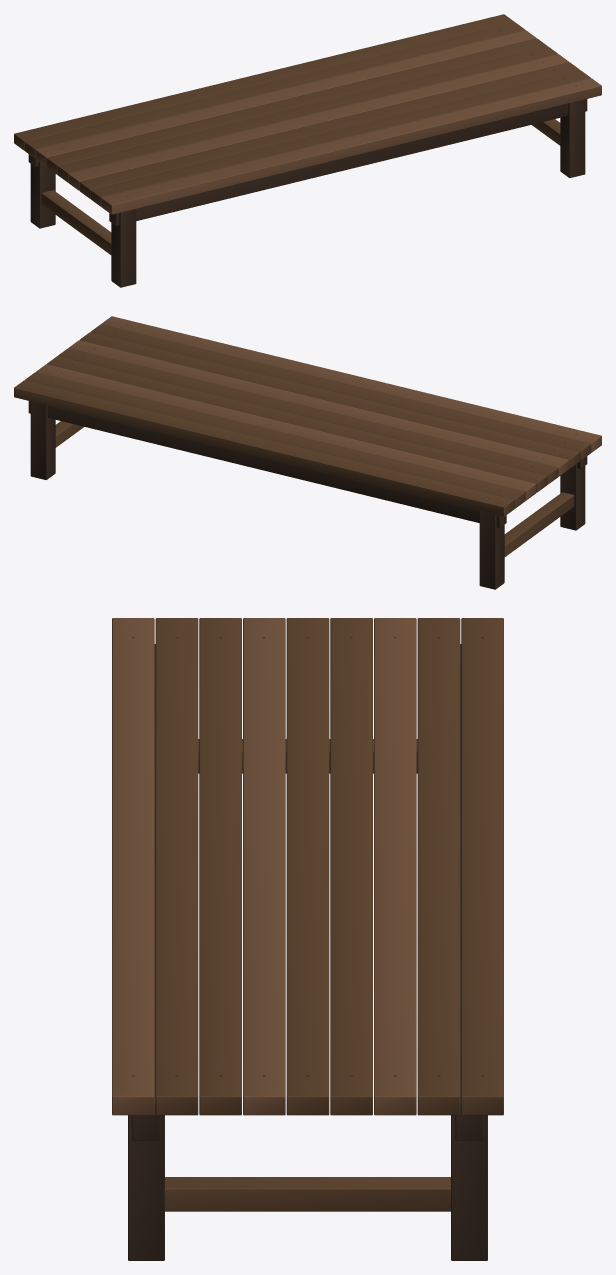
File: kominka-engawa-bench-2600-01.glb
3 views of the same model, one above another, from view 1: azimuth 30°, elevation 25°; view 2: azimuth 150°, elevation 25°; view 3: azimuth 270°, elevation 25° (orthographic). The views are drawn at different scales.
Visible parts, largest first — view 1: kominka-engawa-bench-2600-01; view 2: kominka-engawa-bench-2600-01; view 3: kominka-engawa-bench-2600-01.
Boxes of the visible parts, bbox=[...] form: kominka-engawa-bench-2600-01: bbox=[14, 14, 601, 287]; kominka-engawa-bench-2600-01: bbox=[14, 316, 601, 589]; kominka-engawa-bench-2600-01: bbox=[112, 618, 503, 1260].
Size of the model in its own units: 2.6 by 0.45 by 0.9.
